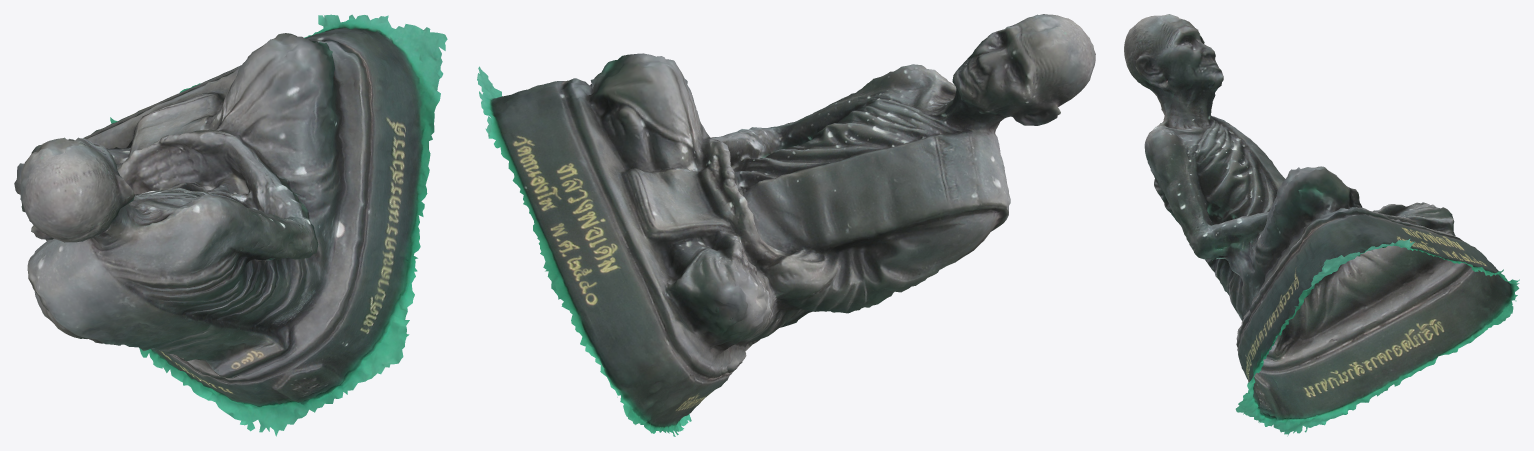
The picture shows the model from 3 angles, left to right: view 1: azimuth 30°, elevation 25°; view 2: azimuth 150°, elevation 25°; view 3: azimuth 270°, elevation 25°; orthographic projection. The views are drawn at different scales.
Visible parts, largest first — view 1: Object_2; view 2: Object_2; view 3: Object_2.
Boxes of the visible parts, left/top/right/bottom form: Object_2: left=14, top=14, right=447, bottom=436; Object_2: left=477, top=14, right=1095, bottom=436; Object_2: left=1124, top=14, right=1519, bottom=436.
Size of the model in its own units: 3.86 by 2.95 by 3.37.
Materials: 1 (1 with a texture image).
